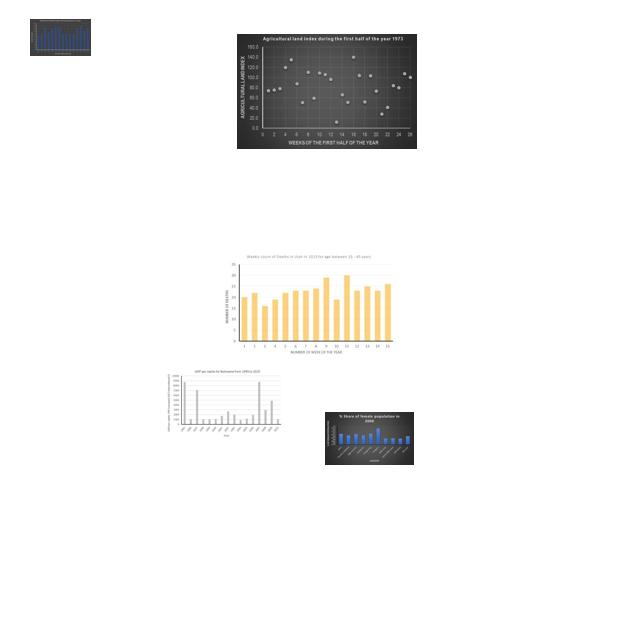Graph: (237, 34, 417, 149), (221, 252, 397, 359), (166, 368, 283, 438), (325, 412, 414, 465), (30, 19, 91, 56)
